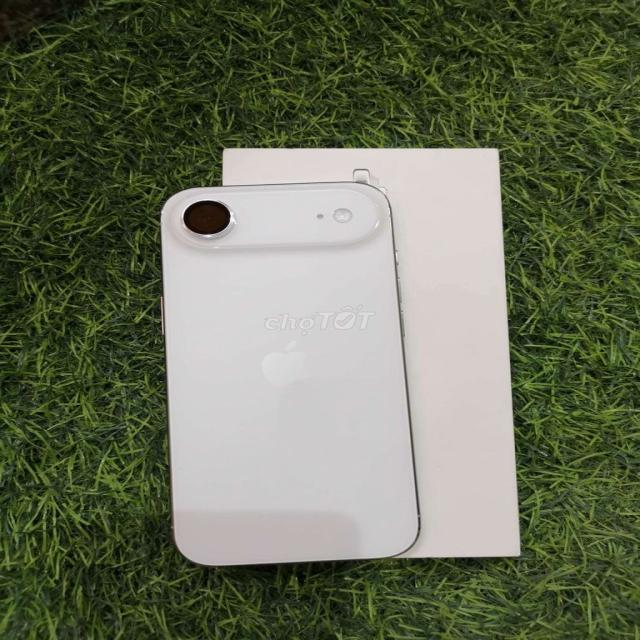gen_17: (147, 177, 433, 581)
